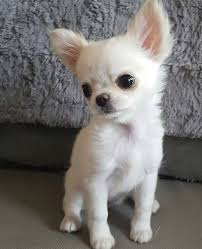Bulldog: (27, 6, 195, 249)
